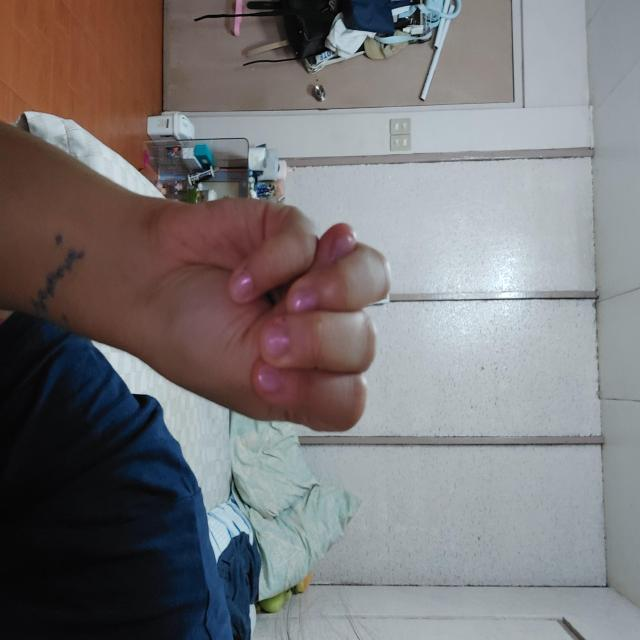M: (198, 250, 434, 498)
